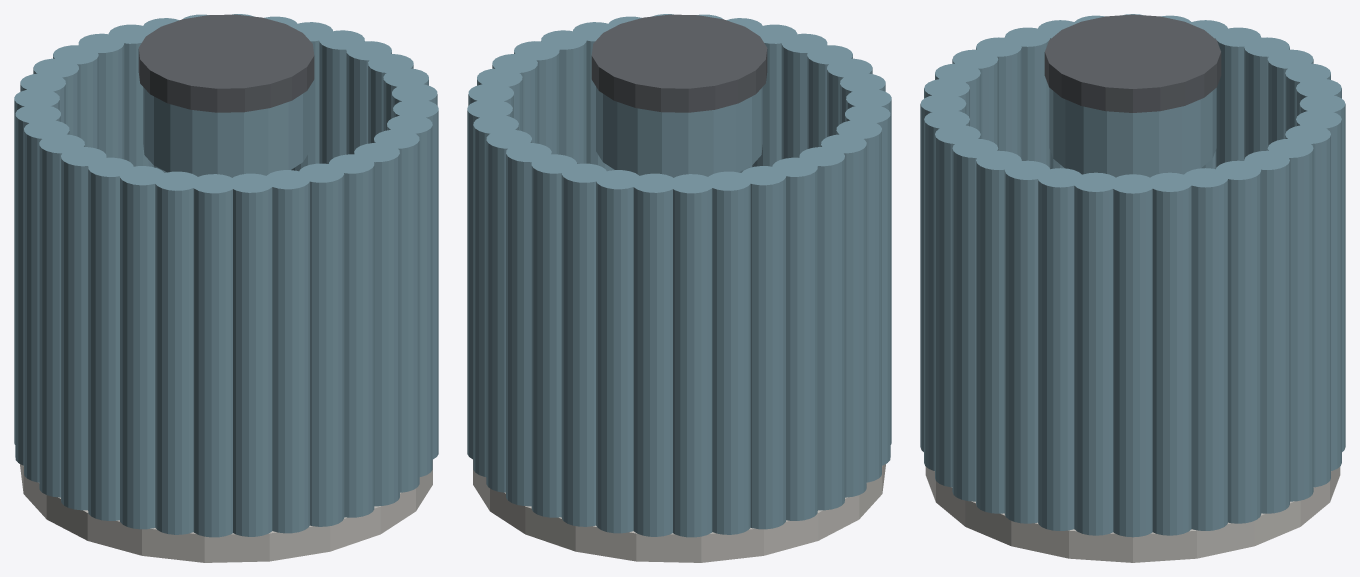
File: bottle.glb
The picture shows the model from 3 angles, left to right: view 1: azimuth 30°, elevation 25°; view 2: azimuth 150°, elevation 25°; view 3: azimuth 270°, elevation 25°; orthographic projection.
Visible parts, largest first — view 1: Bottle_Cap_34, Vessel_Wall_10, Vessel_Wall_11, Vessel_Wall_12, Vessel_Wall_9, Vessel_Wall_13, Vessel_Wall_8, Vessel_Wall_14, Vessel_Wall_7, Bottle_Neck_33, Vessel_Base_32, Vessel_Wall_15 (+19 smaller); view 2: Bottle_Cap_34, Vessel_Wall_22, Vessel_Wall_21, Vessel_Wall_20, Vessel_Wall_23, Vessel_Wall_19, Vessel_Wall_24, Vessel_Wall_18, Vessel_Wall_25, Bottle_Neck_33, Vessel_Base_32, Vessel_Wall_17 (+19 smaller); view 3: Bottle_Cap_34, Vessel_Wall_1, Vessel_Wall_0, Vessel_Wall_31, Vessel_Wall_2, Vessel_Wall_30, Vessel_Wall_3, Vessel_Wall_29, Bottle_Neck_33, Vessel_Base_32, Vessel_Wall_4, Vessel_Wall_28 (+19 smaller).
Part boxes in pixels (x1=…): Bottle_Cap_34: x1=138, y1=14, x2=314, y2=112; Vessel_Wall_10: x1=228, y1=173, x2=273, y2=536; Vessel_Wall_11: x1=192, y1=174, x2=236, y2=537; Vessel_Wall_12: x1=154, y1=171, x2=199, y2=534; Vessel_Wall_9: x1=264, y1=170, x2=309, y2=533; Vessel_Wall_13: x1=120, y1=166, x2=164, y2=529; Vessel_Wall_8: x1=299, y1=163, x2=344, y2=526; Vessel_Wall_14: x1=88, y1=157, x2=133, y2=520; Vessel_Wall_7: x1=328, y1=154, x2=374, y2=517; Bottle_Neck_33: x1=143, y1=87, x2=309, y2=177; Vessel_Base_32: x1=20, y1=460, x2=432, y2=562; Vessel_Wall_15: x1=61, y1=147, x2=106, y2=510; Bottle_Cap_34: x1=591, y1=14, x2=767, y2=112; Vessel_Wall_22: x1=632, y1=173, x2=677, y2=536; Vessel_Wall_21: x1=669, y1=174, x2=712, y2=537; Vessel_Wall_20: x1=706, y1=171, x2=751, y2=534; Vessel_Wall_23: x1=595, y1=170, x2=640, y2=533; Vessel_Wall_19: x1=740, y1=166, x2=785, y2=529; Vessel_Wall_24: x1=561, y1=163, x2=606, y2=526; Vessel_Wall_18: x1=772, y1=157, x2=817, y2=520; Vessel_Wall_25: x1=531, y1=154, x2=577, y2=517; Bottle_Neck_33: x1=596, y1=87, x2=762, y2=177; Vessel_Base_32: x1=473, y1=460, x2=885, y2=562; Vessel_Wall_17: x1=799, y1=147, x2=844, y2=510; Bottle_Cap_34: x1=1044, y1=14, x2=1221, y2=112; Vessel_Wall_1: x1=1073, y1=172, x2=1118, y2=535; Vessel_Wall_0: x1=1110, y1=174, x2=1155, y2=537; Vessel_Wall_31: x1=1147, y1=172, x2=1192, y2=535; Vessel_Wall_2: x1=1037, y1=168, x2=1082, y2=530; Vessel_Wall_30: x1=1182, y1=168, x2=1227, y2=530; Vessel_Wall_3: x1=1004, y1=160, x2=1049, y2=523; Vessel_Wall_29: x1=1216, y1=160, x2=1261, y2=523; Bottle_Neck_33: x1=1049, y1=88, x2=1216, y2=177; Vessel_Base_32: x1=925, y1=467, x2=1340, y2=562; Vessel_Wall_4: x1=976, y1=150, x2=1021, y2=513; Vessel_Wall_28: x1=1244, y1=150, x2=1289, y2=513.
Size of the model in its own units: 0.964 by 1.06 by 0.964.
